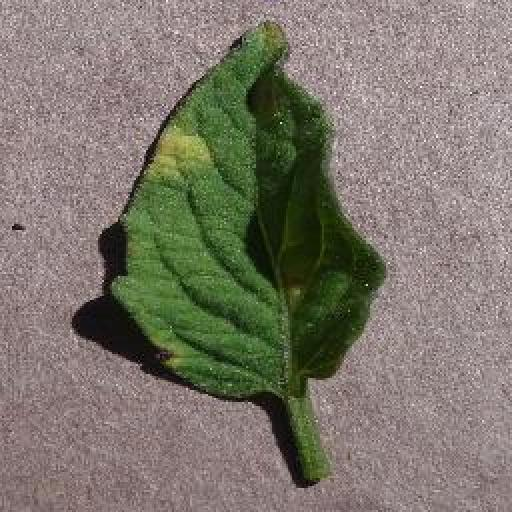disease_tomato: (112, 16, 386, 399)
